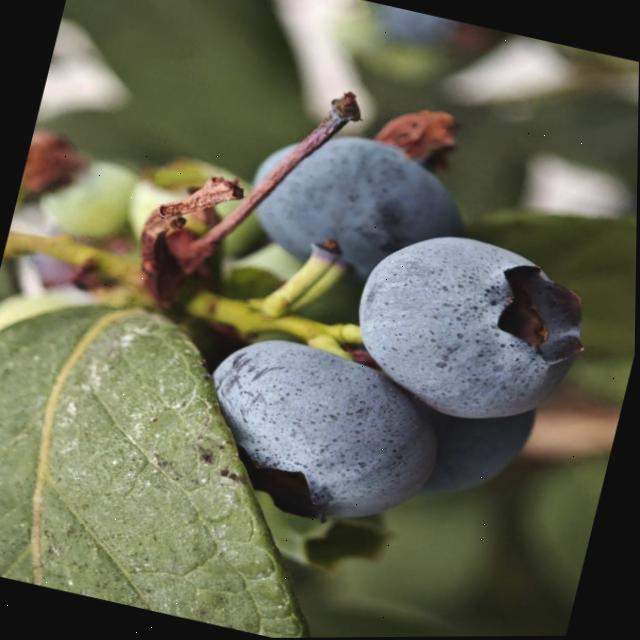RipeBlueBerry: (182, 322, 463, 547), (335, 214, 608, 445), (234, 114, 481, 292)
